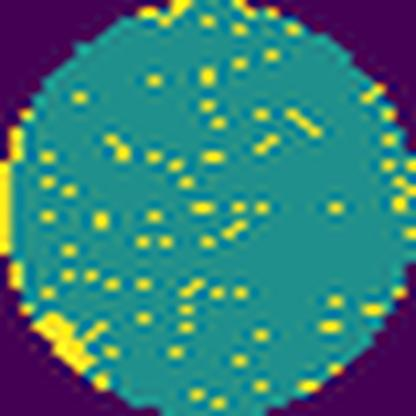Edge-Loc: (30, 306, 112, 377)
